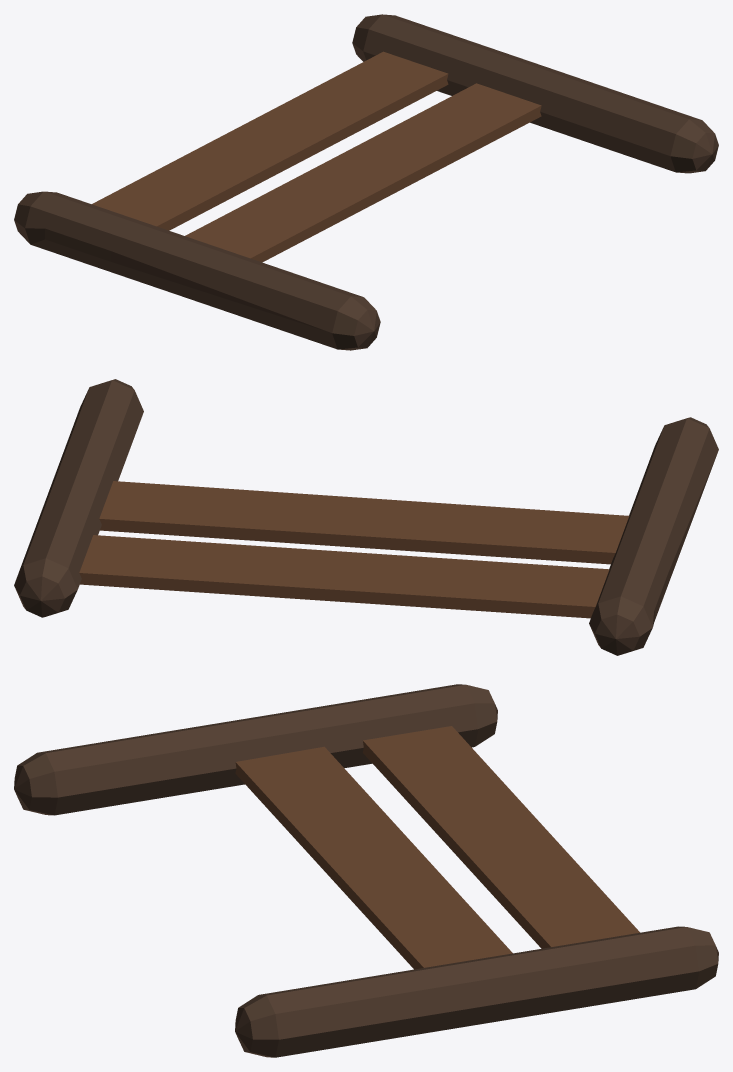
The model's file is Fence(Pickup).fbx.
The picture shows the model from 3 angles, top to bottom: view 1: azimuth 30°, elevation 25°; view 2: azimuth 150°, elevation 25°; view 3: azimuth 270°, elevation 25°; orthographic projection. The views are drawn at different scales.
Parts seen in each view (by area): view 1: Fence; view 2: Fence; view 3: Fence.
Part boxes in pixels (x1,y1,x2,y2): Fence: (14,14,718,350); Fence: (14,379,718,655); Fence: (14,684,718,1057).
Size of the model in its own units: 58.52 by 5 by 51.64.
